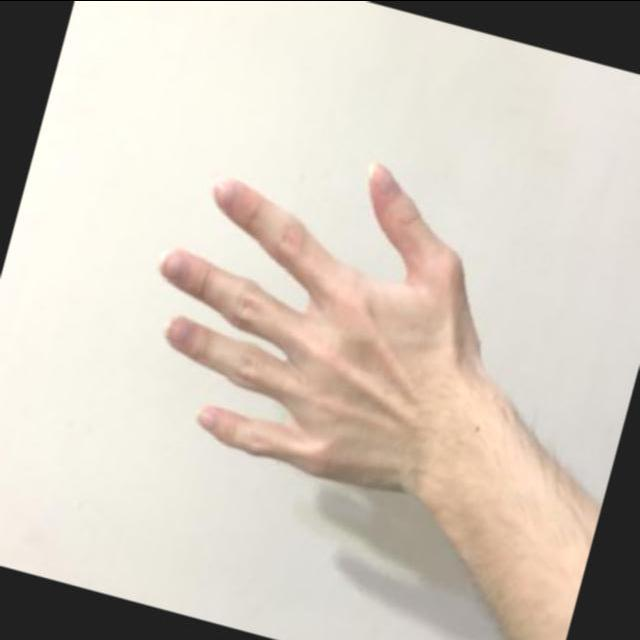hand: (98, 101, 551, 528)
